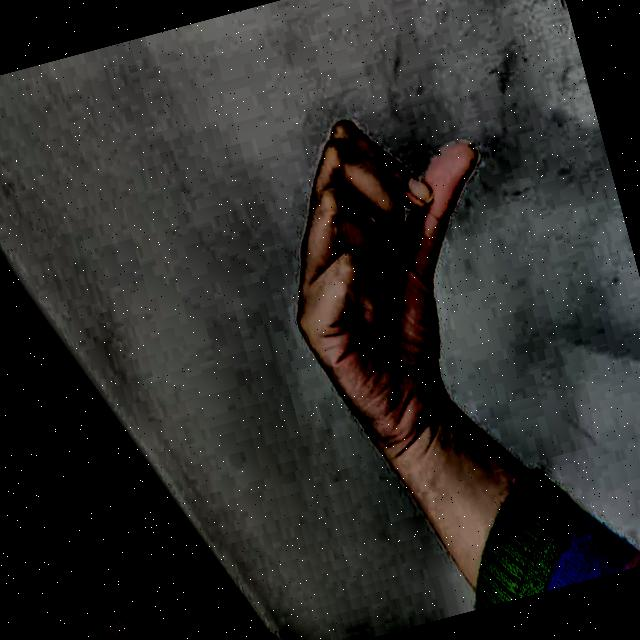Ay: (213, 47, 578, 484)
